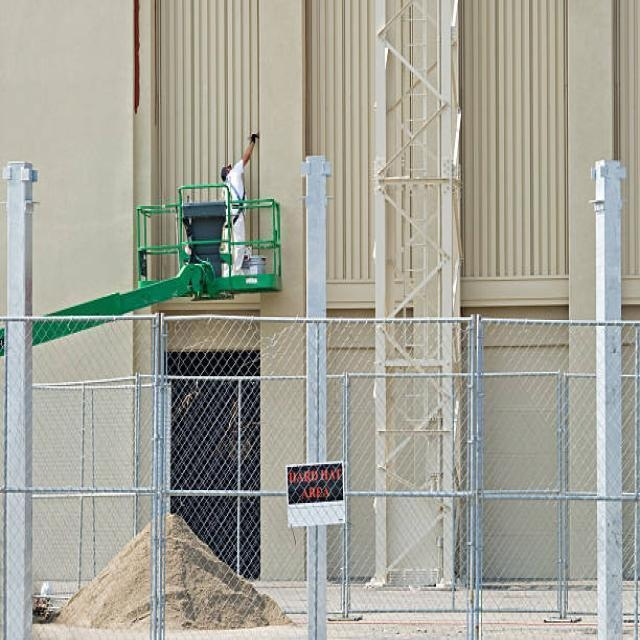Arnes_seguridad: (222, 176, 246, 228)
